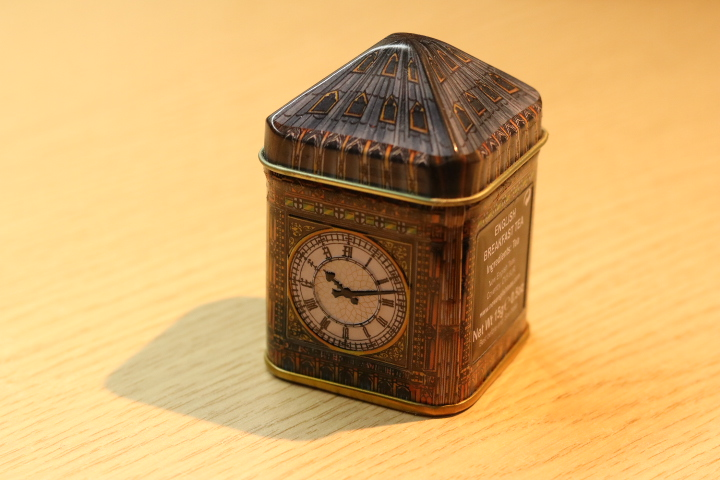Big Ben: (245, 22, 561, 431)
